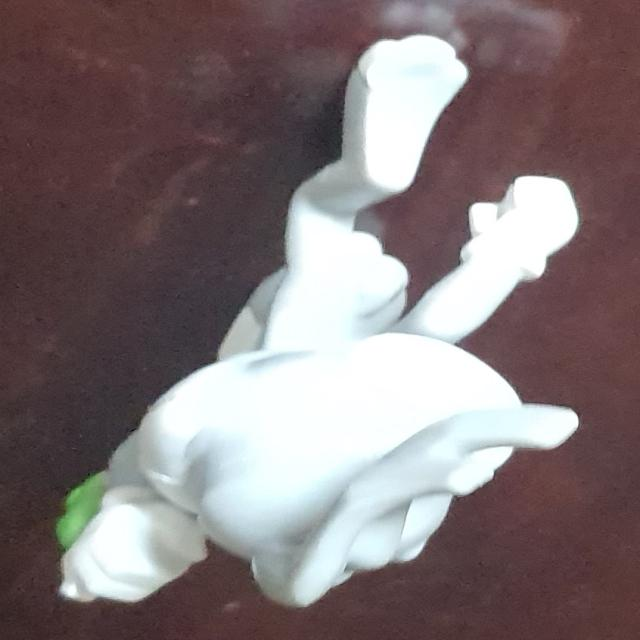Rabbit: (54, 33, 582, 610)
